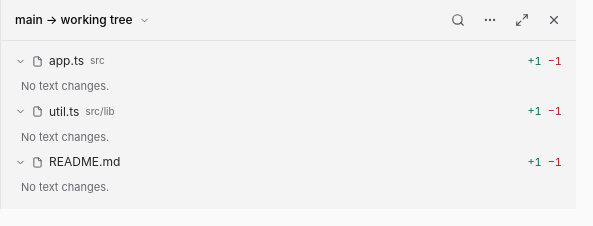
Test: DiffView › reads against HEAD after choosing it in the dropdown
What coordinates should you click on to do the following:
click the button with aria-label "Diff target: main → working tree"
I would click on:
 (82, 20)
Its box is [9,8,156,32].
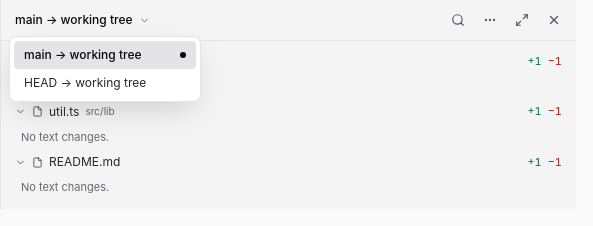
What coordinates should you click on to do the following:
click the option "HEAD → working tree"
I would click on:
 (105, 83)
Its box is [14,69,196,97].
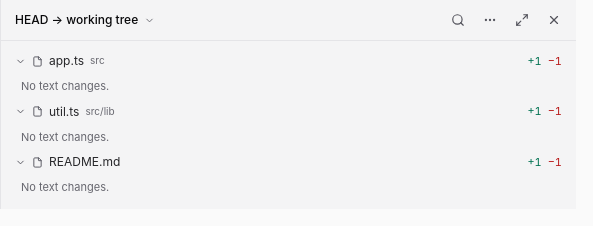
Check: the button with aria-label "Diff target: HEAD → working tree" is shown, box [9,8,161,32]
